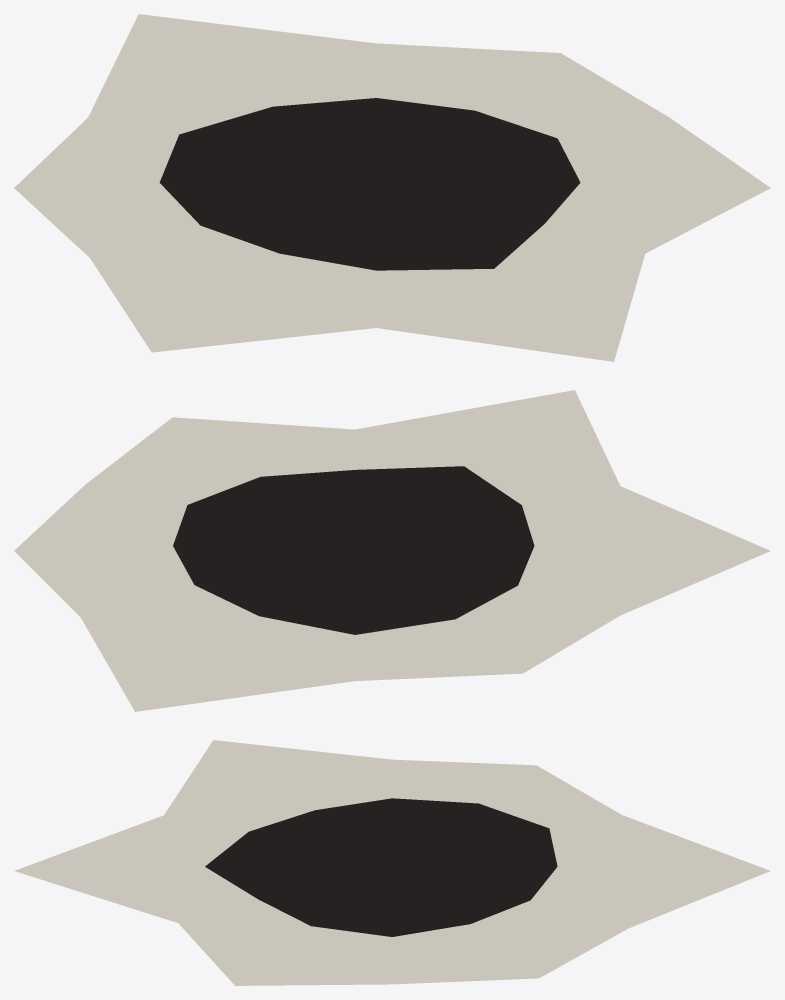
Rendered from hole_wall_06.obj.
3 views of the same model, one above another, from view 1: azimuth 30°, elevation 25°; view 2: azimuth 150°, elevation 25°; view 3: azimuth 270°, elevation 25° (orthographic). The views are drawn at different scales.
Size of the model in its own units: 0.049 by 0.0004 by 0.0638.
1 material, 1 textured.
